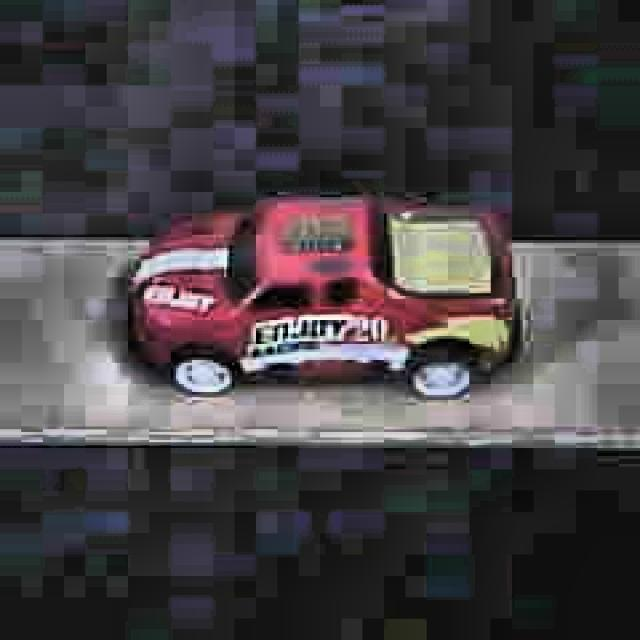car: (125, 188, 524, 404)
